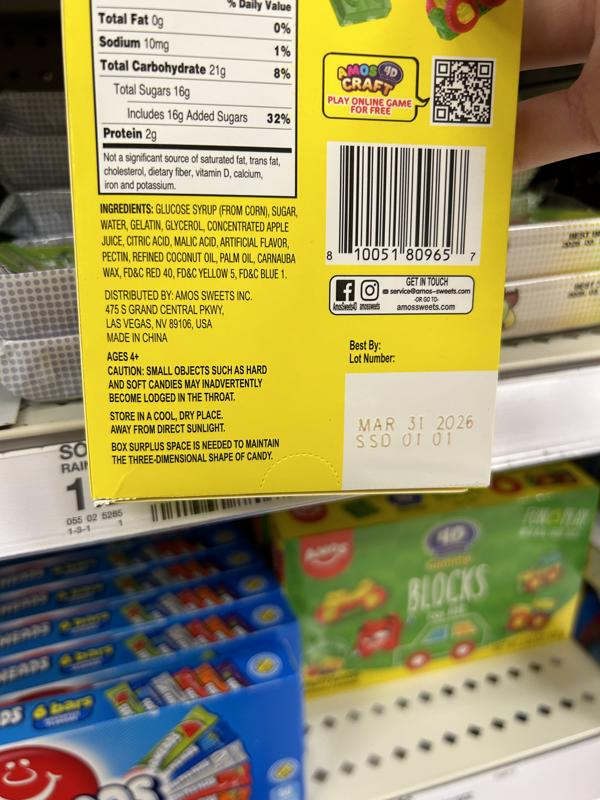ingredients: (97, 201, 301, 282)
